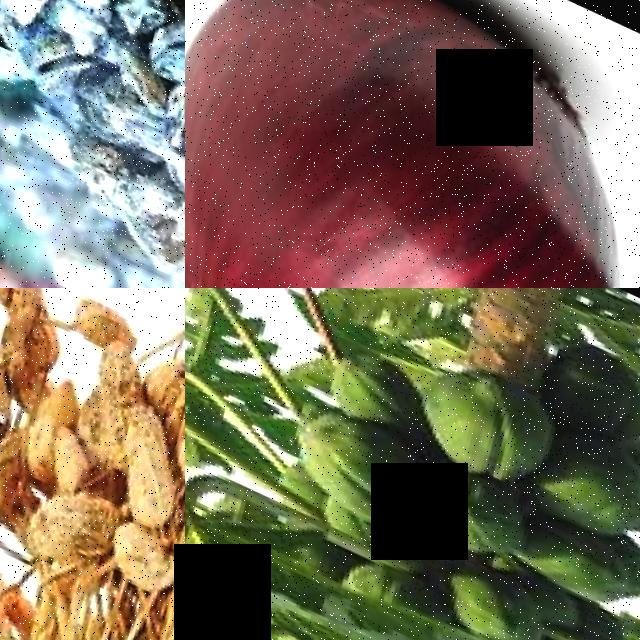onion: (185, 0, 640, 288)
pawpaw: (399, 335, 563, 492), (271, 389, 430, 538), (516, 403, 640, 542), (395, 445, 532, 566), (498, 494, 636, 609), (528, 317, 640, 446)
peanuts: (58, 319, 160, 463), (91, 392, 185, 529), (10, 475, 115, 580), (91, 512, 185, 601)
